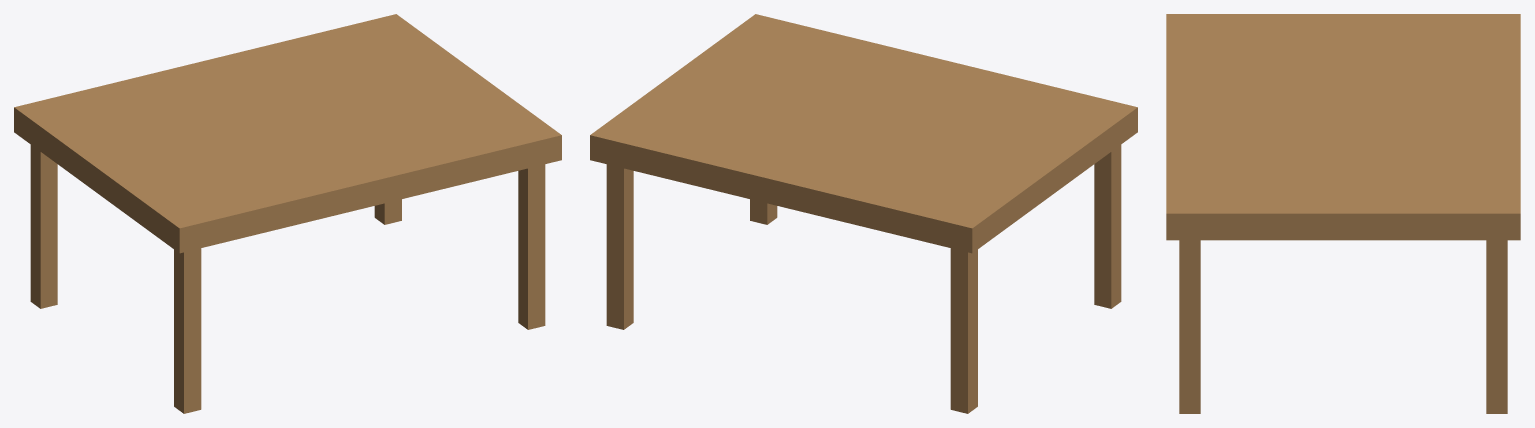
The model's file is observation-deck.source.glb.
3 views of the same model, side by side, from view 1: azimuth 30°, elevation 25°; view 2: azimuth 150°, elevation 25°; view 3: azimuth 270°, elevation 25° (orthographic). The views are drawn at different scales.
Parts seen in each view (by area): view 1: observation-deck-platform-mesh, observation-deck-leg--1.8-1.3-mesh, observation-deck-leg-1.8-1.3-mesh, observation-deck-leg--1.8--1.3-mesh, observation-deck-leg-1.8--1.3-mesh; view 2: observation-deck-platform-mesh, observation-deck-leg--1.8--1.3-mesh, observation-deck-leg-1.8--1.3-mesh, observation-deck-leg--1.8-1.3-mesh, observation-deck-leg-1.8-1.3-mesh; view 3: observation-deck-platform-mesh, observation-deck-leg-1.8--1.3-mesh, observation-deck-leg-1.8-1.3-mesh.
Part boxes in pixels (x1,y1,x2,y2): observation-deck-platform-mesh: [14, 14, 561, 253]; observation-deck-leg--1.8-1.3-mesh: [174, 248, 201, 413]; observation-deck-leg-1.8-1.3-mesh: [518, 164, 545, 329]; observation-deck-leg--1.8--1.3-mesh: [30, 145, 57, 308]; observation-deck-leg-1.8--1.3-mesh: [374, 199, 401, 224]; observation-deck-platform-mesh: [590, 14, 1137, 253]; observation-deck-leg--1.8--1.3-mesh: [950, 248, 977, 413]; observation-deck-leg-1.8--1.3-mesh: [606, 164, 633, 329]; observation-deck-leg--1.8-1.3-mesh: [1094, 145, 1121, 308]; observation-deck-leg-1.8-1.3-mesh: [750, 199, 777, 224]; observation-deck-platform-mesh: [1166, 14, 1520, 240]; observation-deck-leg-1.8--1.3-mesh: [1486, 240, 1507, 413]; observation-deck-leg-1.8-1.3-mesh: [1179, 240, 1200, 413].
Size of the model in its own units: 4 by 1.92 by 3.
